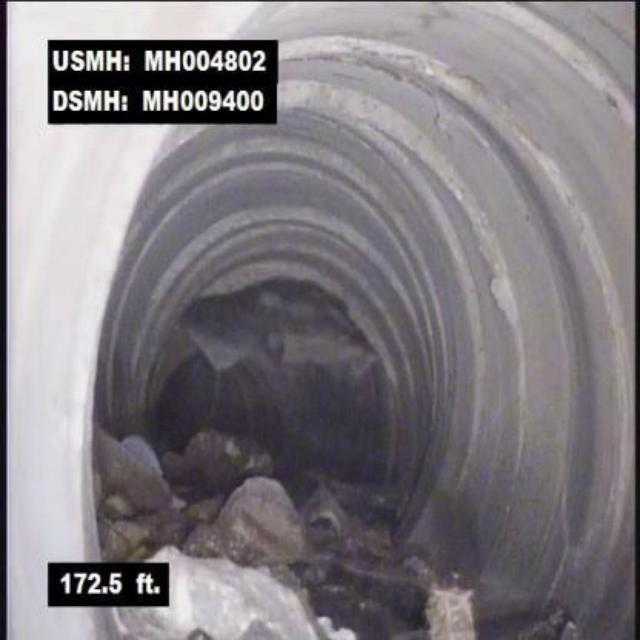Debris: (174, 495, 523, 638)
